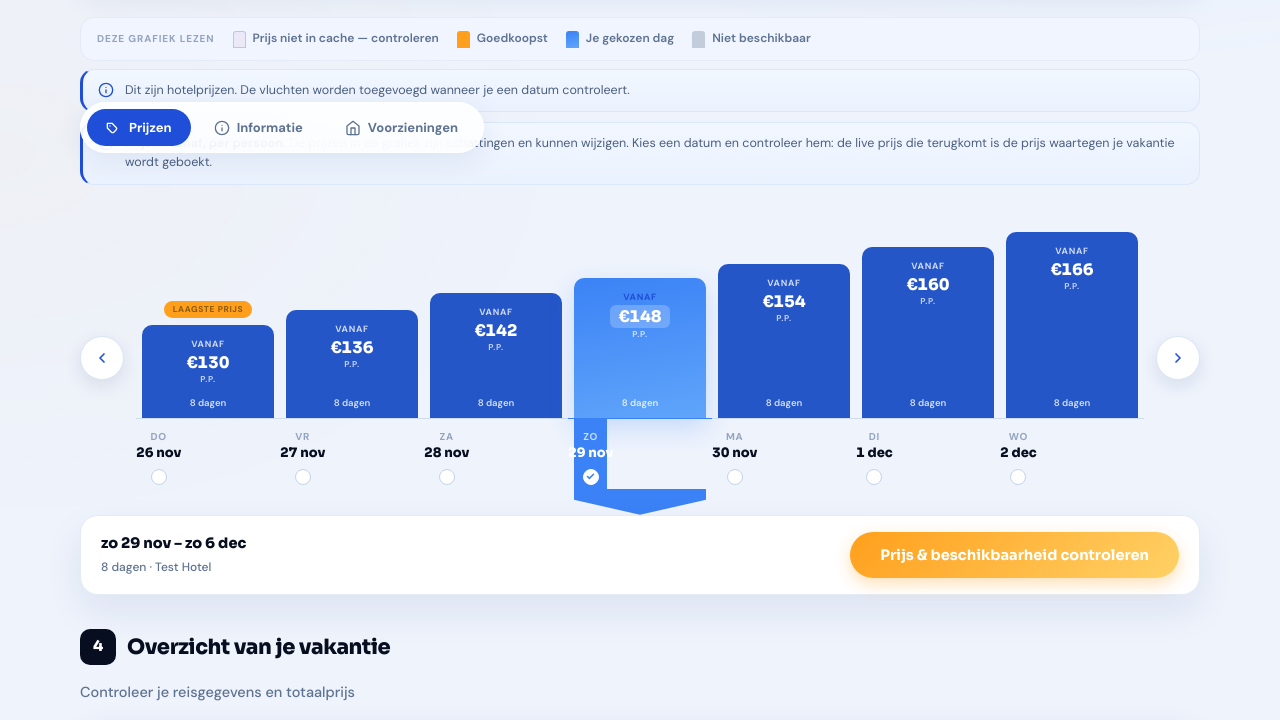
Test: a sold-out day disables the check button › re-enables the button when another day is picked
(page scrolled)
Step 1. Click the button "Laagste prijs vanaf €130 p.p. 8 dagen do 26 nov" → click(208, 361), box top-left (136, 207), bottom-right (280, 515)
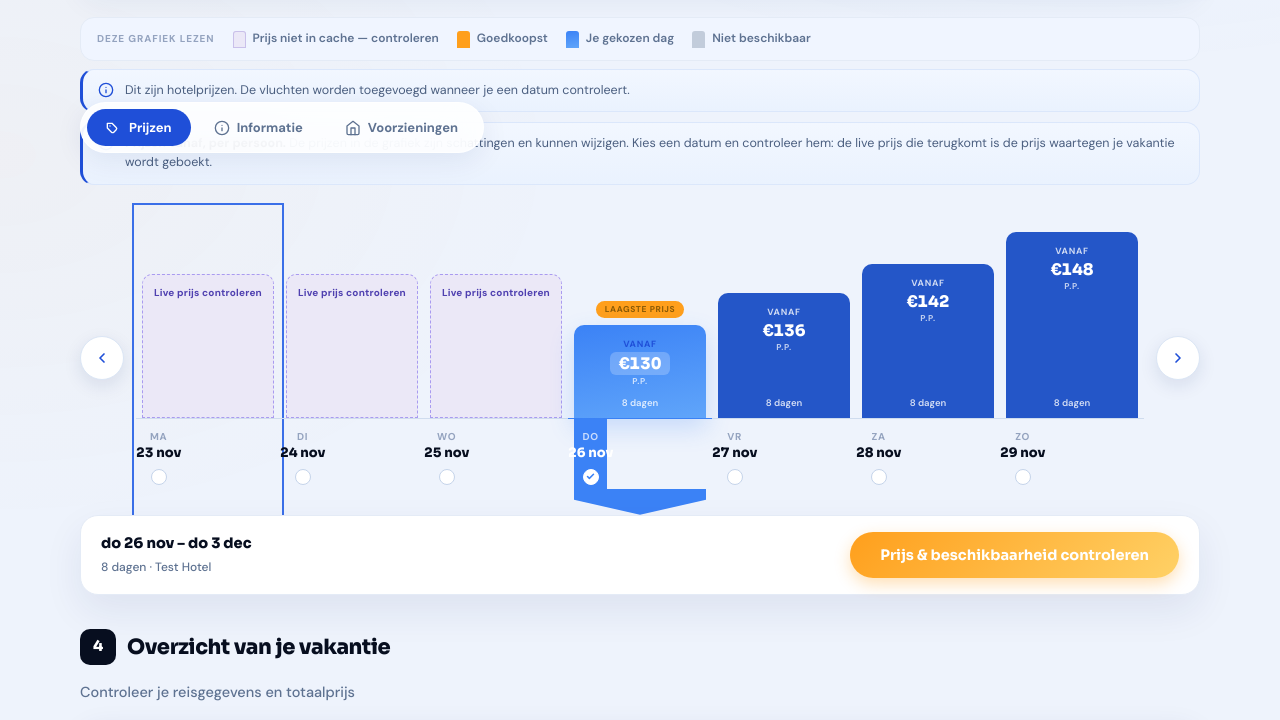
Step 2. Click the button "Prijs & beschikbaarheid controleren" → click(1015, 555), box top-left (850, 532), bottom-right (1179, 578)
(page scrolled)
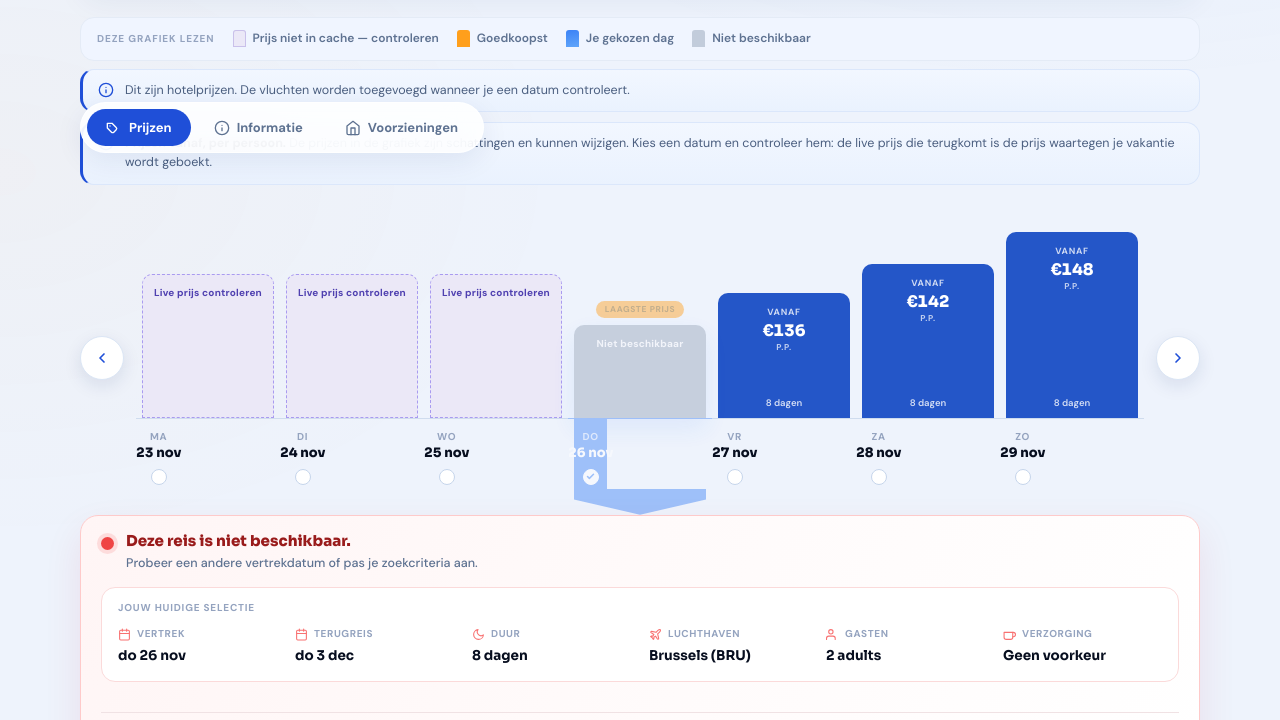
Step 3. Click the button "vanaf €142 p.p. 8 dagen za 28 nov" → click(928, 361), box top-left (856, 207), bottom-right (1000, 515)
(page scrolled)
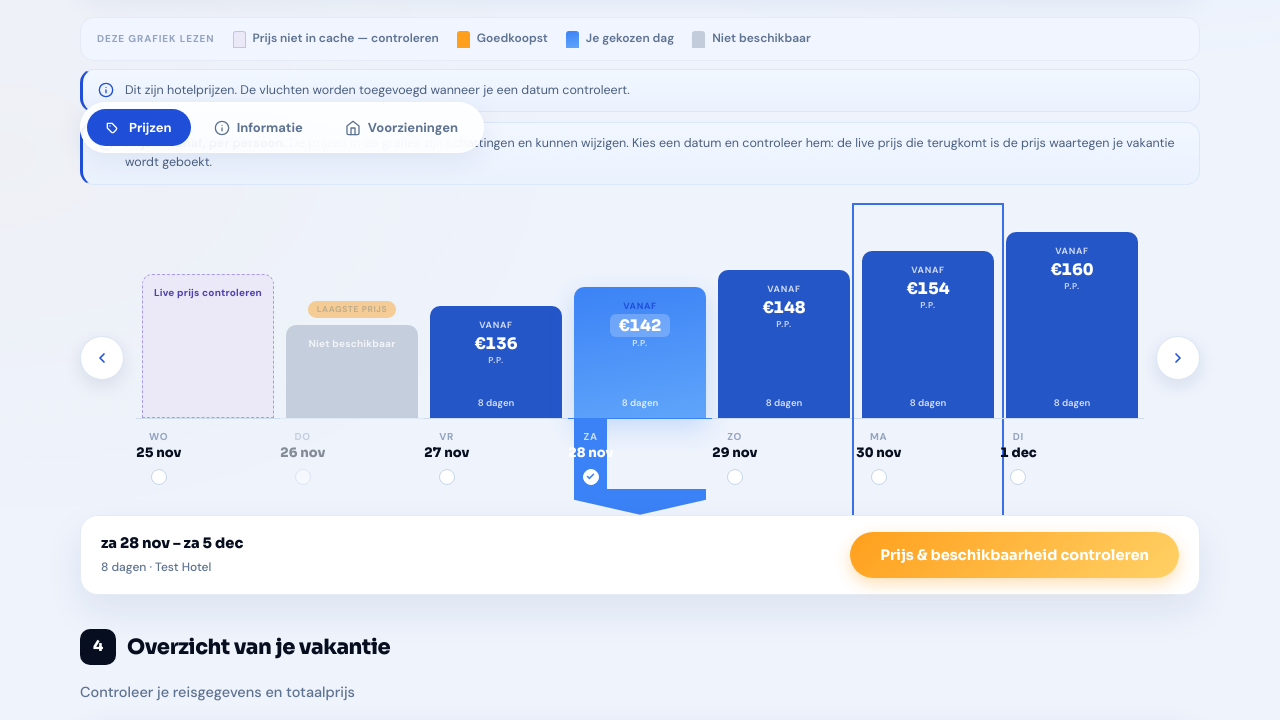
Check: the button "Prijs & beschikbaarheid controleren" is enabled, box top-left (850, 532), bottom-right (1179, 578)
